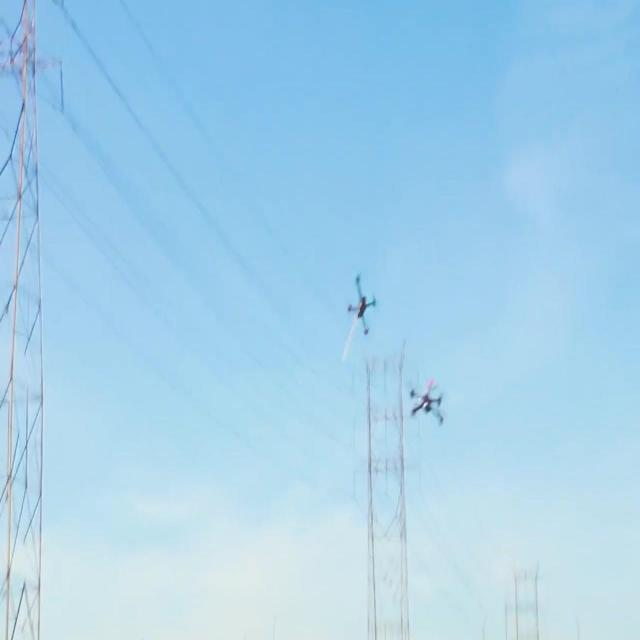UAV: (346, 269, 378, 336), (408, 381, 447, 427)
